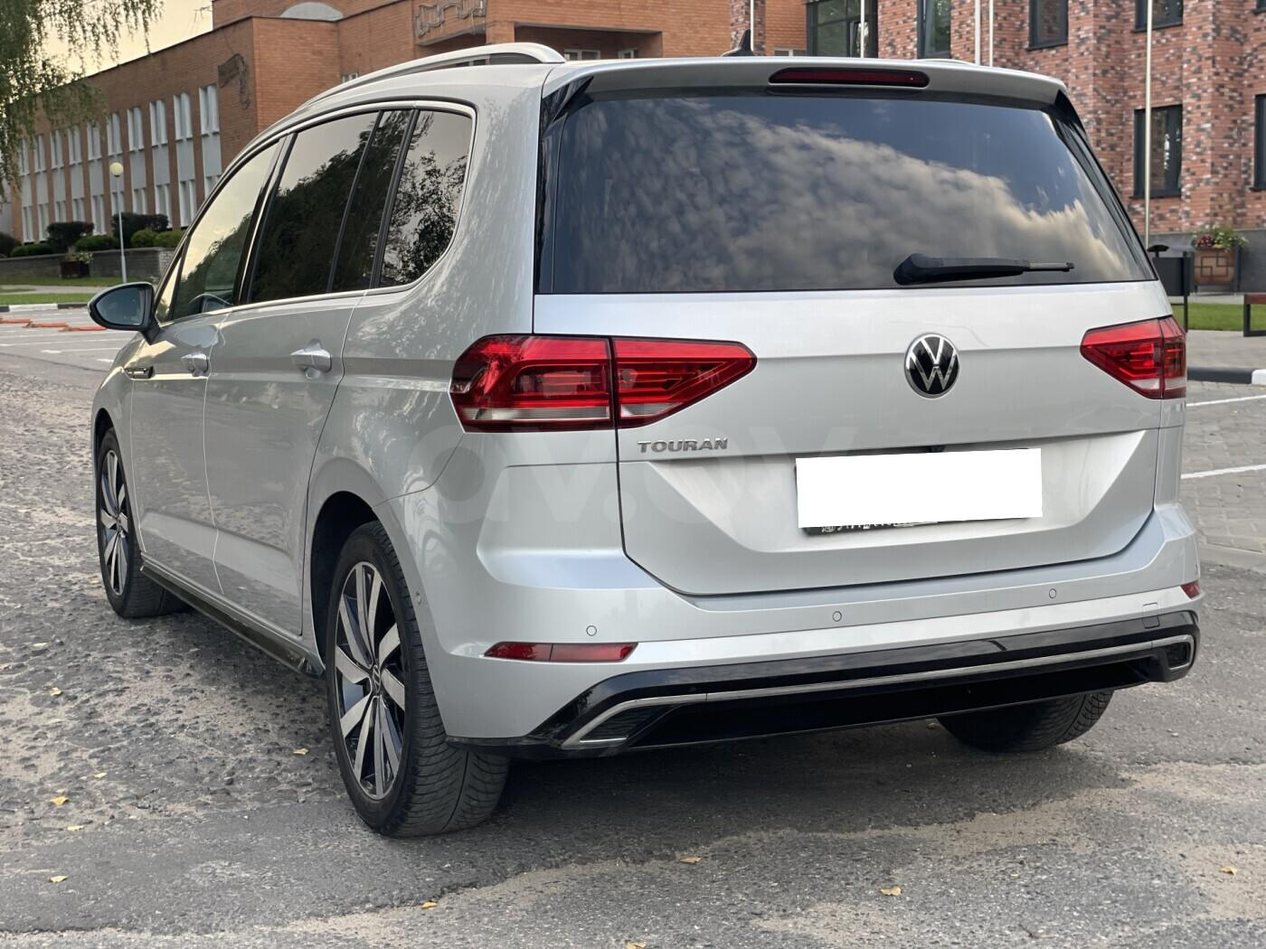Touran_2015: (81, 43, 1207, 837)
